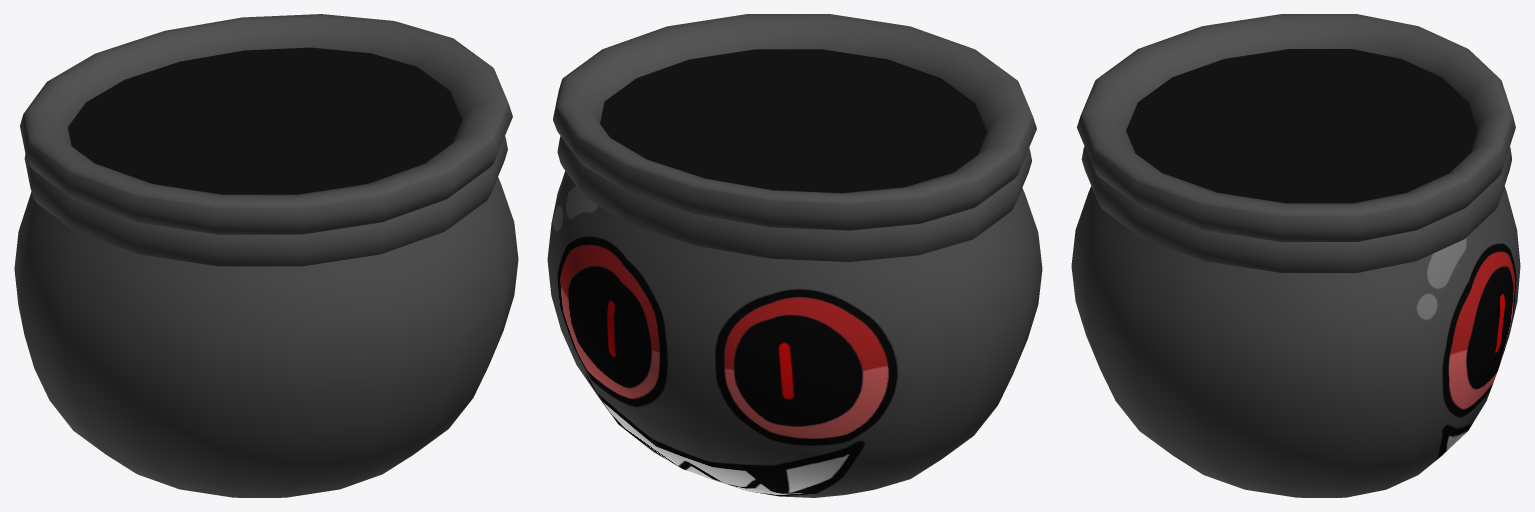
Rendered from Twisted Finn.glb.
3 views of the same model, side by side, from view 1: azimuth 30°, elevation 25°; view 2: azimuth 150°, elevation 25°; view 3: azimuth 270°, elevation 25° (orthographic). The views are drawn at different scales.
Parts seen in each view (by area): view 1: Twisted Finn; view 2: Twisted Finn; view 3: Twisted Finn.
Part boxes in pixels (x1,y1,x2,y2): Twisted Finn: [14, 14, 518, 497]; Twisted Finn: [547, 14, 1042, 497]; Twisted Finn: [1071, 14, 1520, 497].
Bounding box in the file's own units: 3.34 × 2.66 × 3.03.
Materials: 1 (1 with a texture image).
